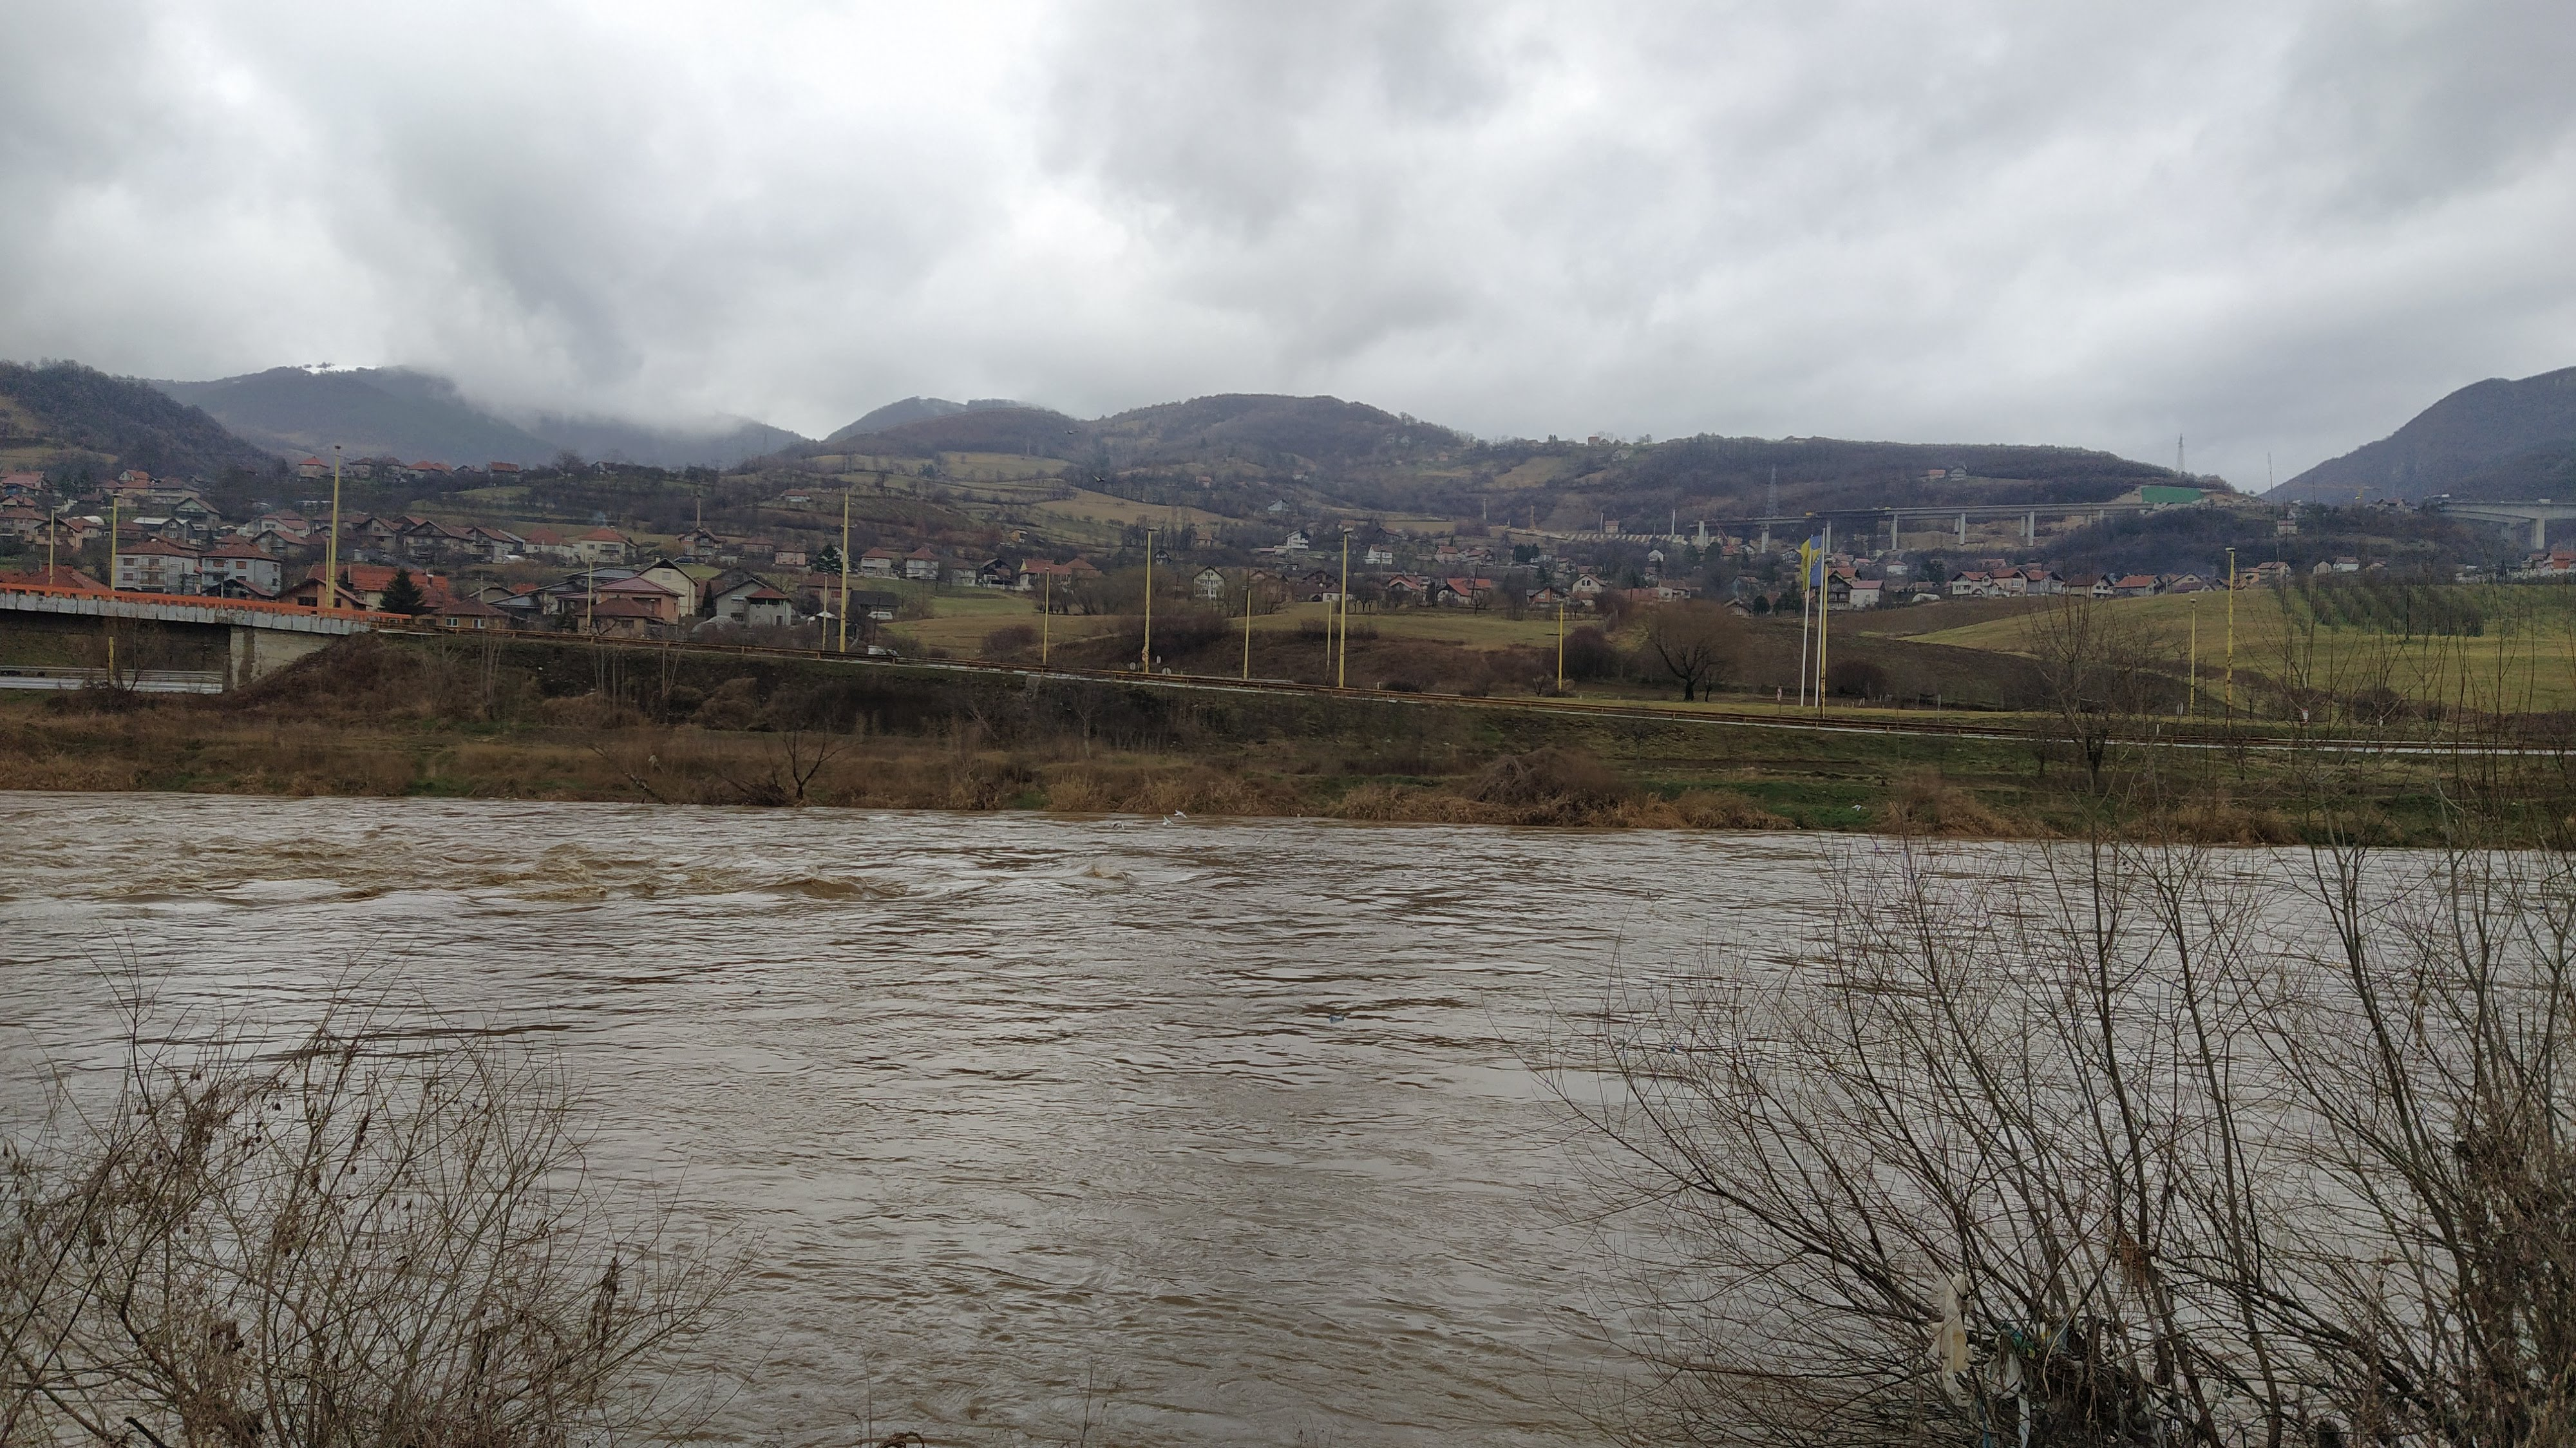Plastic Bottle: (1330, 1013, 1345, 1021), (1401, 871, 1407, 876)
